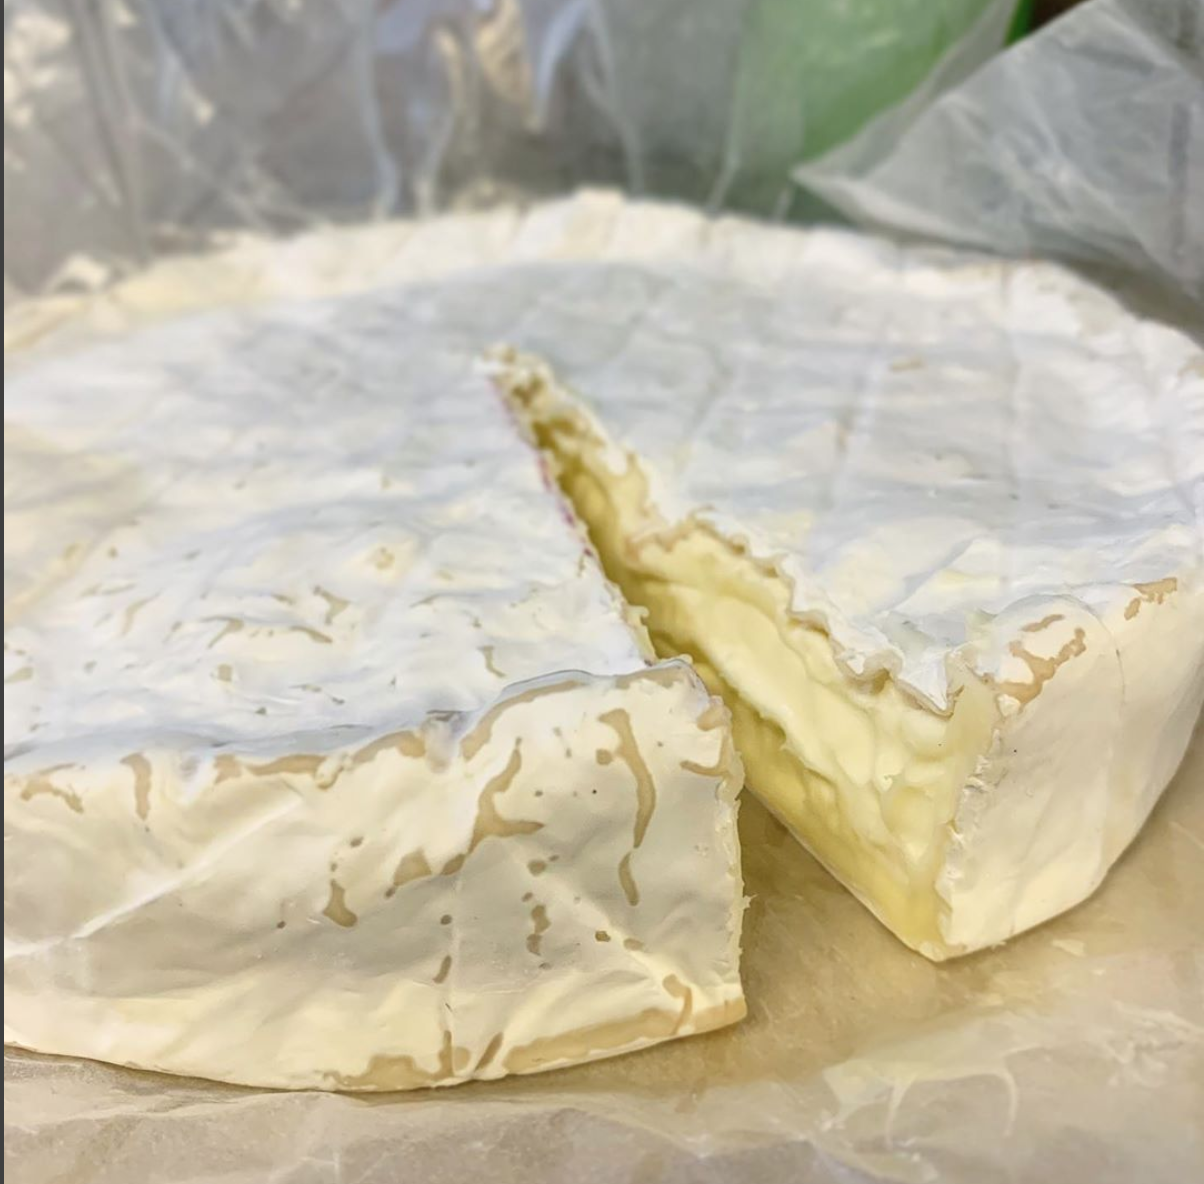camembert: (2, 184, 1204, 1099)
